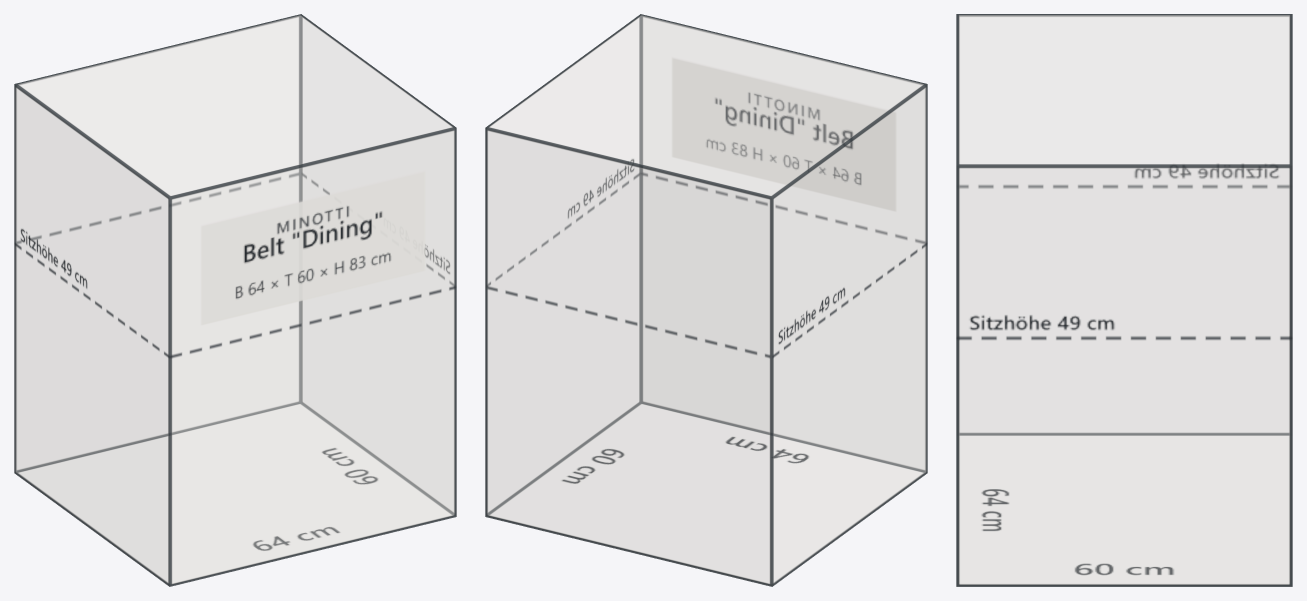
File: produkt-belt-dining.glb
3 renders of one model, left to right at view 1: azimuth 30°, elevation 25°; view 2: azimuth 150°, elevation 25°; view 3: azimuth 270°, elevation 25°, orthographic. The views are drawn at different scales.
Parts seen in each view (by area): view 1: Vorderseite, Rueckseite, Links, Rechts, Oben, Grundflaeche; view 2: Rueckseite, Vorderseite, Links, Rechts, Oben, Grundflaeche; view 3: Rechts, Links, Oben, Grundflaeche.
Boxes of the visible parts, x1,y1,x2,y2 form: Vorderseite: (169, 127, 456, 586); Rueckseite: (15, 15, 301, 471); Links: (14, 84, 169, 586); Rechts: (301, 16, 454, 513); Oben: (15, 14, 455, 197); Grundflaeche: (16, 402, 453, 583); Rueckseite: (485, 127, 772, 586); Vorderseite: (640, 15, 926, 471); Links: (772, 84, 927, 586); Rechts: (487, 16, 640, 513); Oben: (486, 14, 926, 197); Grundflaeche: (488, 402, 925, 583); Rechts: (956, 165, 1292, 586); Links: (959, 15, 1289, 434); Oben: (956, 14, 1292, 165); Grundflaeche: (959, 434, 1289, 584).
Size of the model in its own units: 0.64 by 0.83 by 0.6.
Materials: 6 (6 with a texture image).
